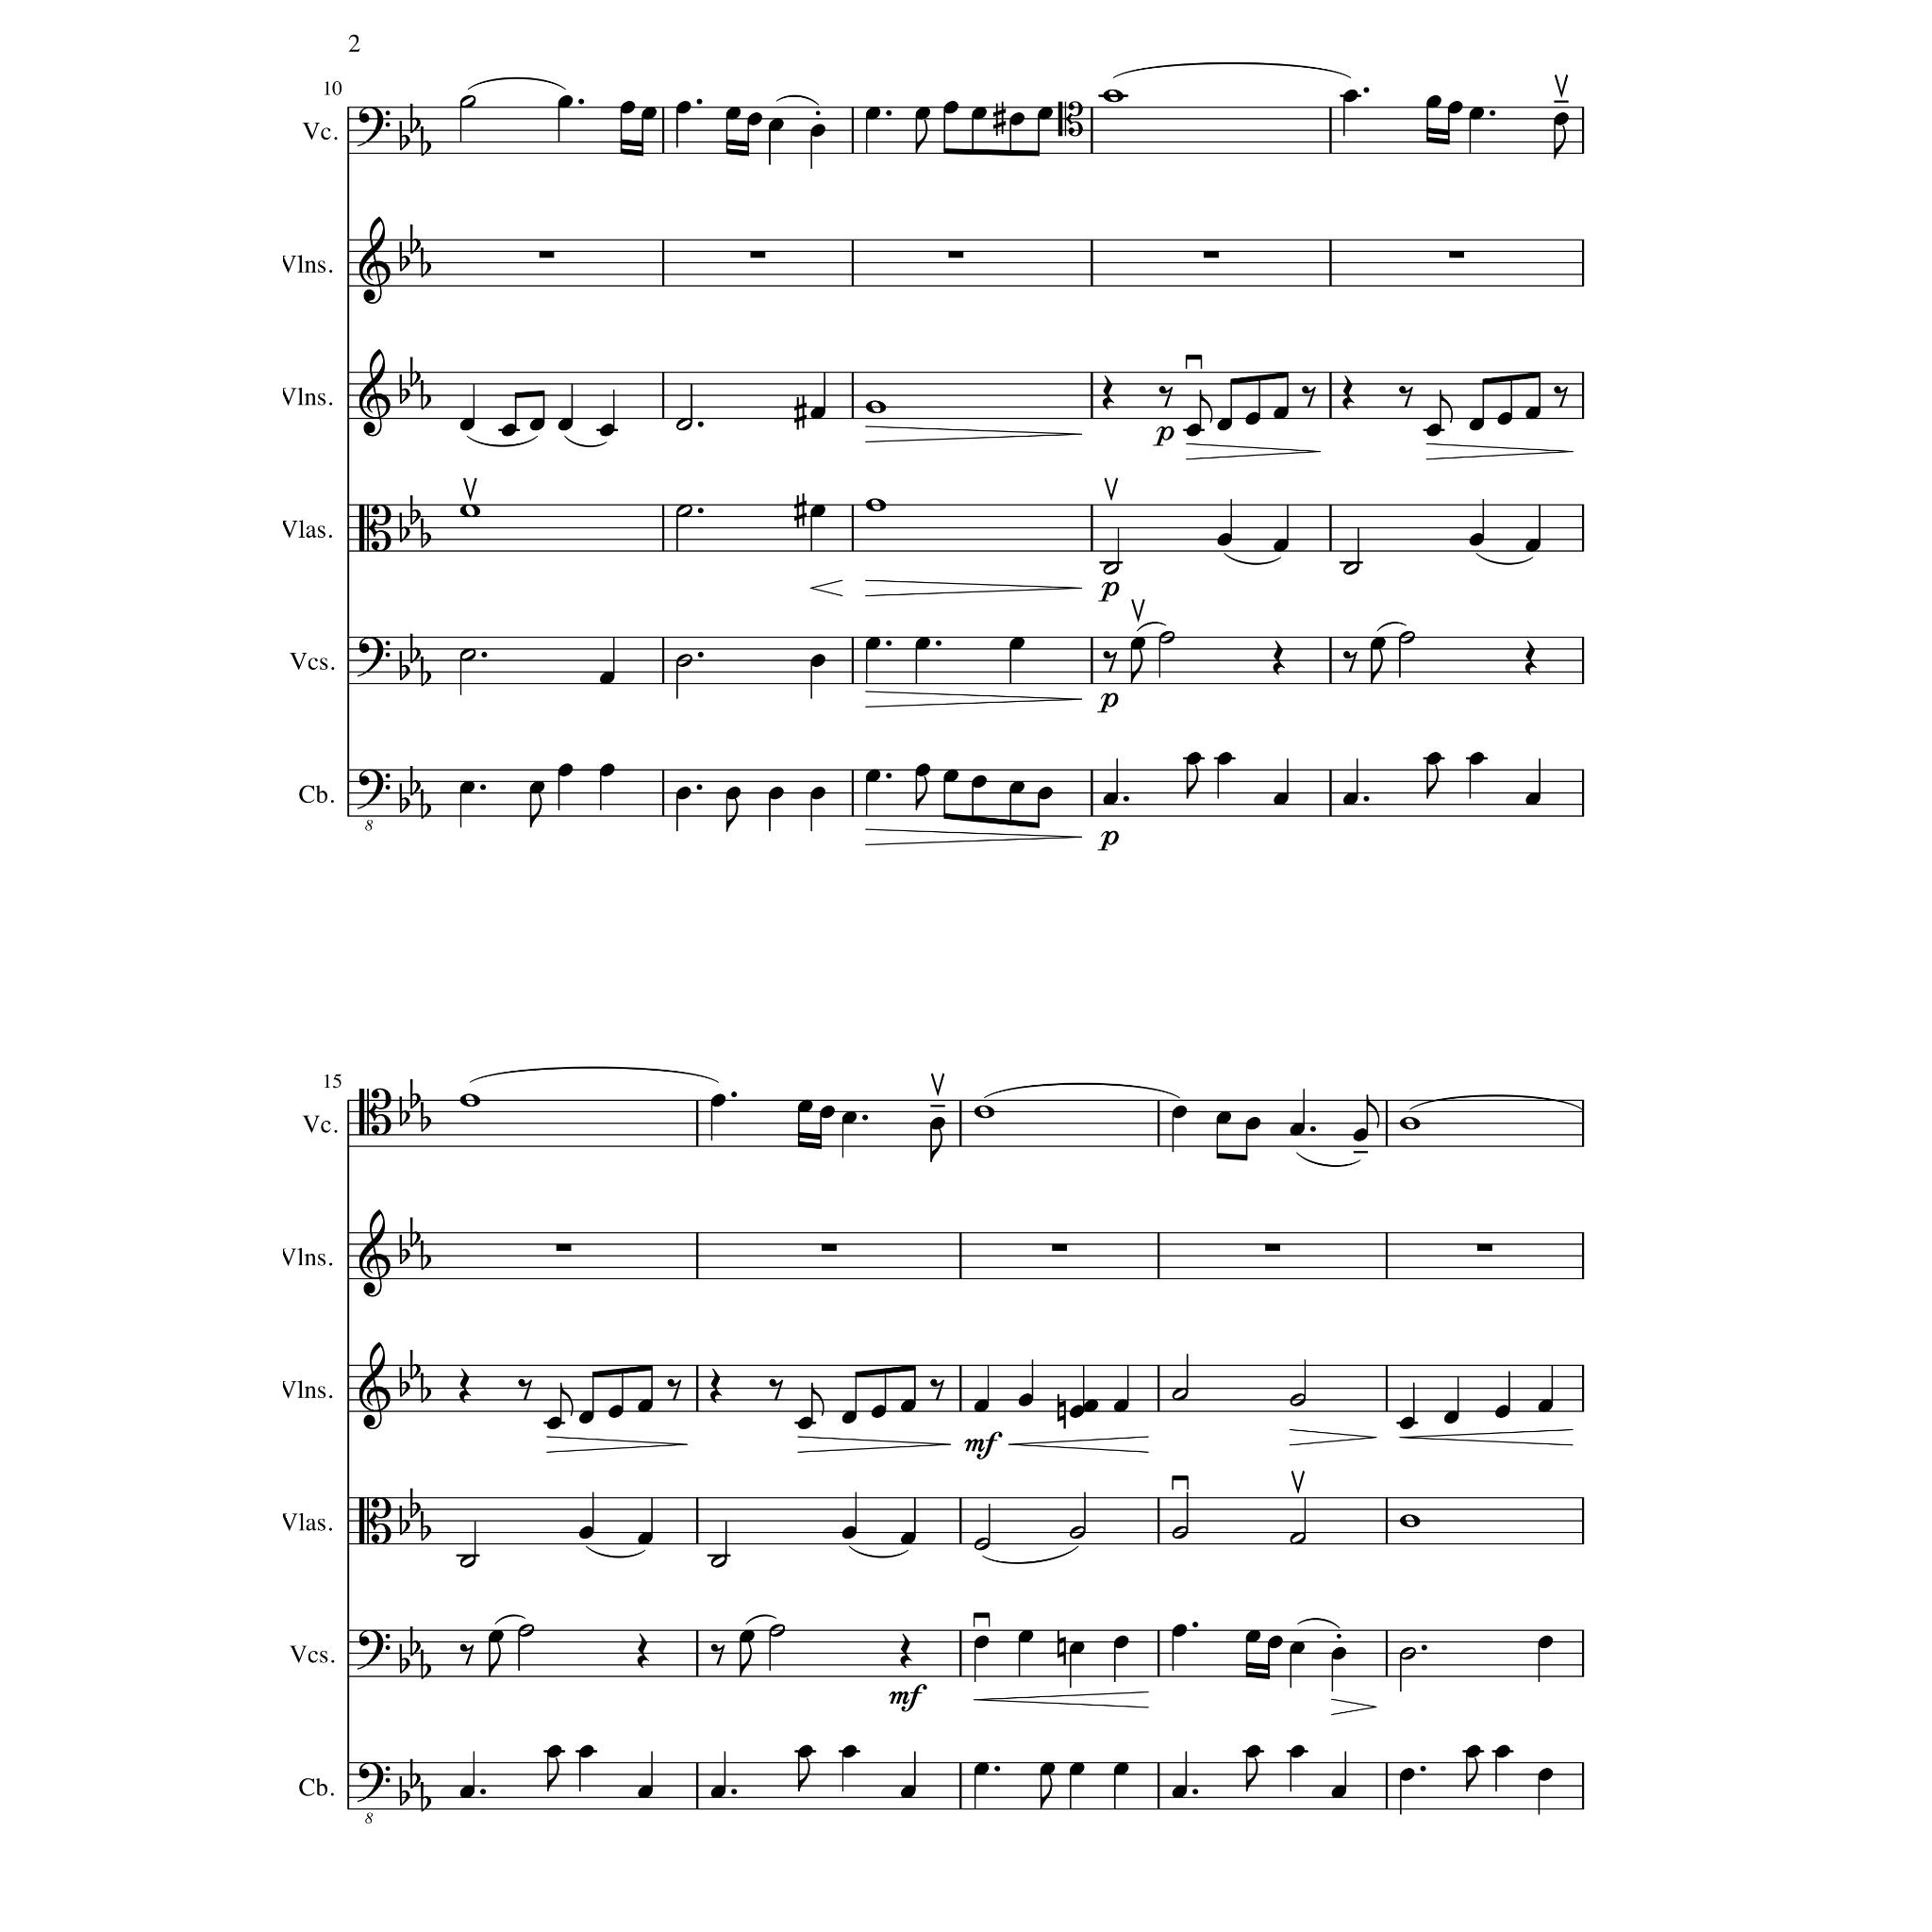fClef: (357, 638, 391, 677), (357, 770, 391, 809), (357, 108, 391, 147), (357, 1630, 391, 1670), (357, 1762, 391, 1802)
flag8thDown: (1426, 764, 1440, 800), (915, 775, 928, 811), (1245, 1757, 1258, 1792), (1130, 650, 1143, 684), (915, 120, 928, 154), (1040, 1775, 1053, 1809), (489, 1642, 502, 1676), (930, 1128, 943, 1162), (740, 1642, 753, 1676), (1187, 764, 1198, 800), (1555, 125, 1566, 160), (530, 792, 541, 828), (1466, 1757, 1477, 1792), (547, 1757, 558, 1792), (798, 1757, 809, 1792), (1372, 650, 1383, 684), (726, 798, 738, 832)
flag8thUp: (1200, 391, 1213, 425), (1440, 391, 1453, 425), (1366, 1094, 1379, 1128), (560, 1383, 574, 1417), (811, 1383, 824, 1417)
gClef: (358, 216, 391, 305), (358, 349, 391, 438), (358, 1208, 391, 1297), (358, 1341, 391, 1430)
noteheadBlack: (1524, 406, 1541, 421), (1468, 532, 1485, 547), (619, 100, 636, 115), (809, 406, 826, 421), (809, 504, 826, 519), (545, 1415, 562, 1430), (796, 1415, 813, 1430), (1274, 406, 1289, 421), (1217, 532, 1232, 547), (1447, 100, 1462, 115), (675, 100, 691, 115), (943, 100, 958, 115), (1172, 1623, 1187, 1638), (1400, 1415, 1415, 1430), (1102, 792, 1119, 806), (1185, 424, 1202, 437), (1185, 752, 1202, 765), (1524, 539, 1541, 552), (1524, 792, 1541, 806), (1553, 112, 1570, 125), (1370, 637, 1387, 650), (1468, 752, 1485, 765), (1496, 412, 1513, 425), (1468, 107, 1485, 120), (1468, 418, 1485, 431), (557, 95, 574, 108), (557, 418, 574, 431), (557, 763, 574, 776), (500, 424, 517, 437), (528, 418, 545, 431), (528, 781, 545, 794), (458, 418, 475, 431), (458, 781, 475, 794), (809, 125, 826, 138), (809, 654, 826, 667), (809, 787, 826, 800), (724, 107, 741, 120), (724, 787, 741, 800), (864, 637, 881, 650), (864, 770, 881, 783), (864, 107, 881, 120), (1266, 1635, 1283, 1648), (1289, 1123, 1306, 1136), (1289, 1641, 1306, 1655), (1289, 1745, 1306, 1758), (1215, 1111, 1232, 1124), (1068, 1405, 1085, 1418), (1068, 1641, 1085, 1655), (1068, 1762, 1085, 1775), (1017, 1393, 1034, 1407), (1017, 1630, 1034, 1643), (1494, 1745, 1511, 1758), (1494, 1405, 1511, 1418), (1443, 1410, 1460, 1424), (1330, 1647, 1347, 1660), (1330, 1785, 1347, 1798), (608, 1405, 625, 1418), (545, 1745, 562, 1758), (577, 1410, 594, 1424), (577, 1526, 594, 1540), (577, 1745, 594, 1758), (709, 1093, 726, 1107), (709, 1785, 726, 1798), (487, 1630, 504, 1643), (458, 1785, 475, 1798), (928, 1117, 945, 1130), (870, 1405, 887, 1418), (796, 1100, 813, 1113), (796, 1745, 813, 1758), (819, 1106, 836, 1119), (1245, 412, 1260, 425), (1274, 792, 1289, 806), (1274, 539, 1289, 552), (1217, 418, 1232, 431), (1217, 752, 1232, 765), (1343, 792, 1358, 806), (1343, 90, 1358, 103), (1038, 107, 1053, 120), (1038, 787, 1053, 800), (1130, 637, 1145, 650), (1426, 95, 1441, 108), (1426, 424, 1441, 437), (1426, 752, 1441, 765), (641, 107, 657, 120), (675, 787, 691, 800), (600, 424, 615, 437), (600, 672, 615, 685), (600, 763, 615, 776), (915, 107, 930, 120), (915, 637, 930, 650), (915, 763, 930, 776), (972, 107, 987, 120), (972, 775, 987, 789), (1009, 112, 1024, 125), (1009, 637, 1024, 650), (1009, 781, 1024, 794), (943, 770, 958, 783), (768, 119, 783, 132), (768, 787, 783, 800), (747, 112, 762, 125), (1245, 1117, 1260, 1130), (1245, 1630, 1260, 1643), (1245, 1745, 1260, 1758), (1040, 1762, 1055, 1775), (1083, 1399, 1098, 1412), (1172, 1106, 1187, 1119), (1172, 1785, 1187, 1798), (1113, 1399, 1128, 1412), (1113, 1635, 1128, 1648), (1113, 1762, 1128, 1775), (1538, 1768, 1553, 1781), (1538, 1399, 1553, 1412), (1538, 1635, 1553, 1648), (1466, 1745, 1481, 1758), (1353, 1128, 1368, 1141), (1400, 1768, 1415, 1781), (638, 1399, 653, 1412), (638, 1532, 653, 1545), (638, 1785, 653, 1798), (900, 1785, 915, 1798), (900, 1399, 915, 1412), (900, 1532, 915, 1545), (974, 1399, 989, 1412), (974, 1635, 989, 1648), (974, 1762, 989, 1775), (740, 1630, 755, 1643), (841, 1111, 857, 1124), (841, 1410, 857, 1424), (841, 1526, 857, 1540), (841, 1745, 857, 1758)
noteheadHalf: (675, 504, 692, 519), (1172, 1387, 1189, 1402), (517, 1623, 534, 1638), (768, 1623, 785, 1638), (1342, 562, 1359, 575), (1103, 562, 1120, 575), (1158, 631, 1175, 644), (1398, 631, 1415, 644), (675, 418, 692, 431), (675, 654, 692, 667), (459, 95, 476, 108), (459, 648, 476, 661), (1289, 1393, 1306, 1407), (1289, 1532, 1306, 1545), (1069, 1526, 1086, 1540), (1172, 1526, 1189, 1540), (1399, 1647, 1416, 1660), (710, 1555, 727, 1568), (459, 1555, 476, 1568), (974, 1538, 991, 1551)
noteheadWhole: (1102, 89, 1124, 104), (458, 504, 481, 519), (1400, 1513, 1421, 1528), (864, 499, 887, 512), (864, 401, 887, 414), (458, 1094, 481, 1108), (1400, 1117, 1421, 1130), (974, 1106, 994, 1119)
rest8th: (1342, 651, 1357, 674), (1301, 386, 1316, 408), (1103, 651, 1118, 674), (1158, 386, 1174, 408), (1553, 386, 1568, 408), (1398, 386, 1413, 408), (666, 1378, 681, 1401), (710, 1643, 725, 1666), (517, 1378, 532, 1401), (459, 1643, 475, 1666), (929, 1378, 944, 1401), (769, 1378, 784, 1401)
restQuarter: (1272, 641, 1285, 676), (1341, 375, 1355, 411), (1102, 375, 1115, 411), (1524, 641, 1538, 676), (709, 1368, 723, 1404), (458, 1368, 472, 1404), (638, 1633, 649, 1669), (900, 1633, 911, 1669)
restWhole: (947, 251, 964, 258), (749, 251, 766, 258), (538, 251, 555, 258), (1264, 1244, 1281, 1252), (1051, 1244, 1068, 1252), (555, 1244, 572, 1252), (1204, 251, 1219, 258), (1449, 251, 1464, 258), (821, 1244, 836, 1252), (1477, 1244, 1492, 1252)
